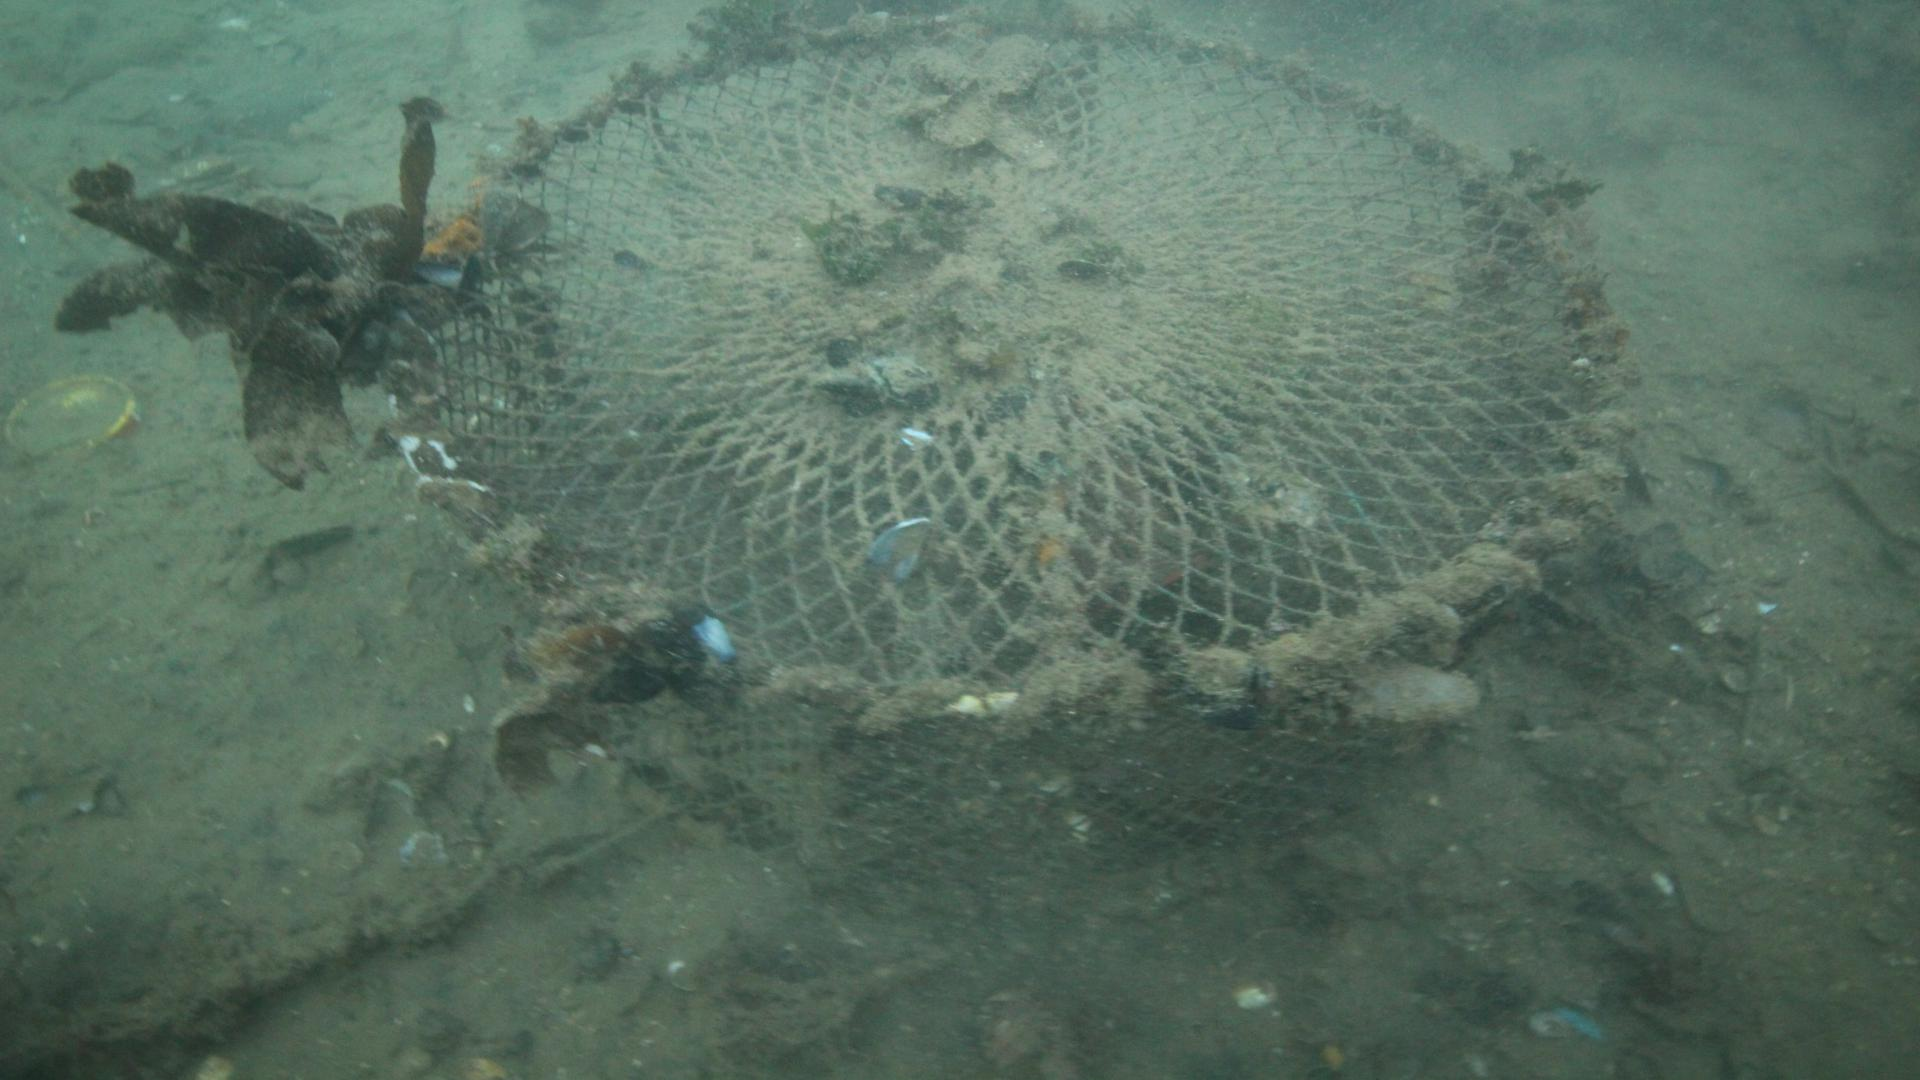circular fish trap: (378, 1, 1639, 911)
